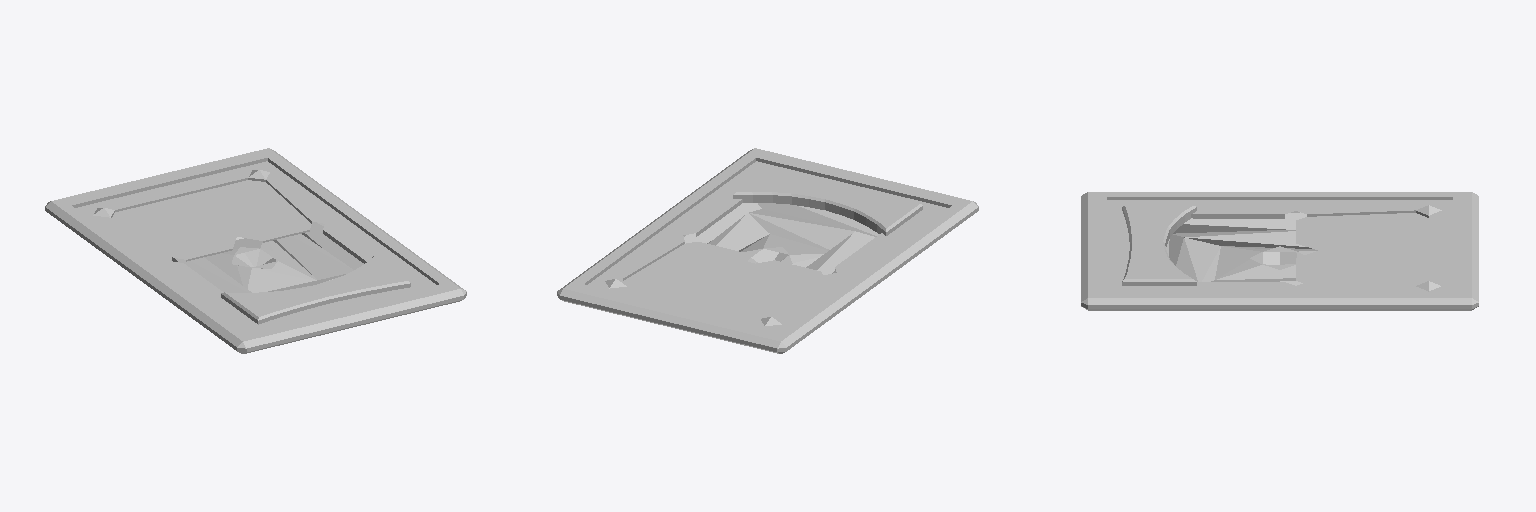
The model's file is CardBase.obj.
3 renders of one model, left to right at view 1: azimuth 30°, elevation 25°; view 2: azimuth 150°, elevation 25°; view 3: azimuth 270°, elevation 25°, orthographic.
Visible parts, largest first — view 1: CardBase_Cube; view 2: CardBase_Cube; view 3: CardBase_Cube.
Boxes of the visible parts, <box> form: CardBase_Cube: <box>45,148,466,353</box>; CardBase_Cube: <box>557,148,978,353</box>; CardBase_Cube: <box>1081,192,1478,310</box>.
Size of the model in its own units: 2 by 0.2277 by 3.